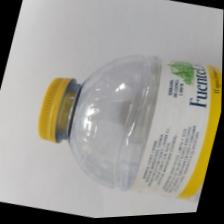plastic: (10, 12, 223, 223)
